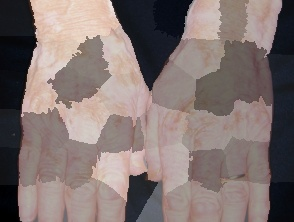vitiligo: (145, 0, 290, 222), (15, 0, 150, 222)
